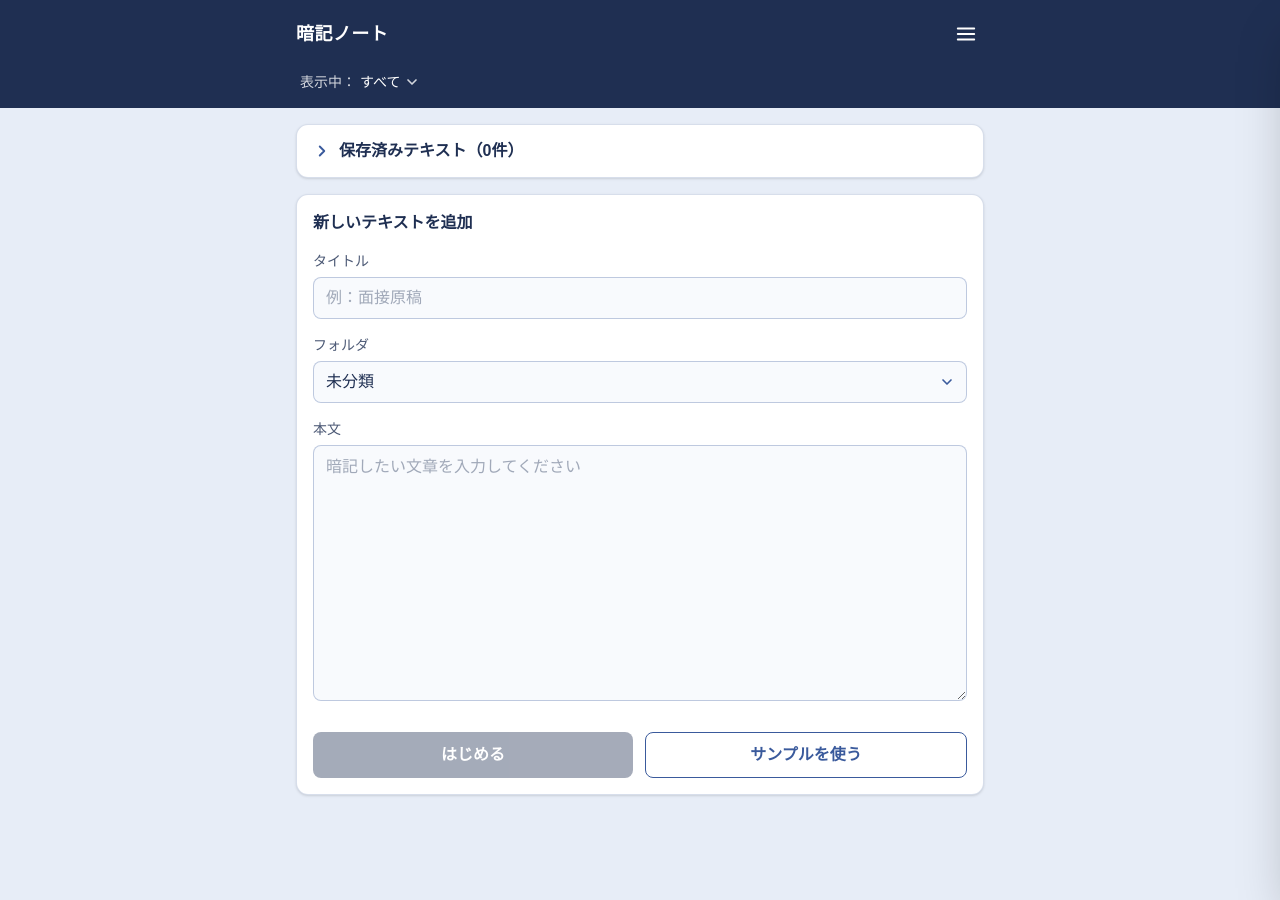
HomeScreen › フォルダ作成をキャンセルすると選択欄に戻る
Select "＋ 新しいフォルダを作る" in the dropdown labelled "フォルダ" at (640, 382), box x1=313 y1=361 x2=967 y2=403
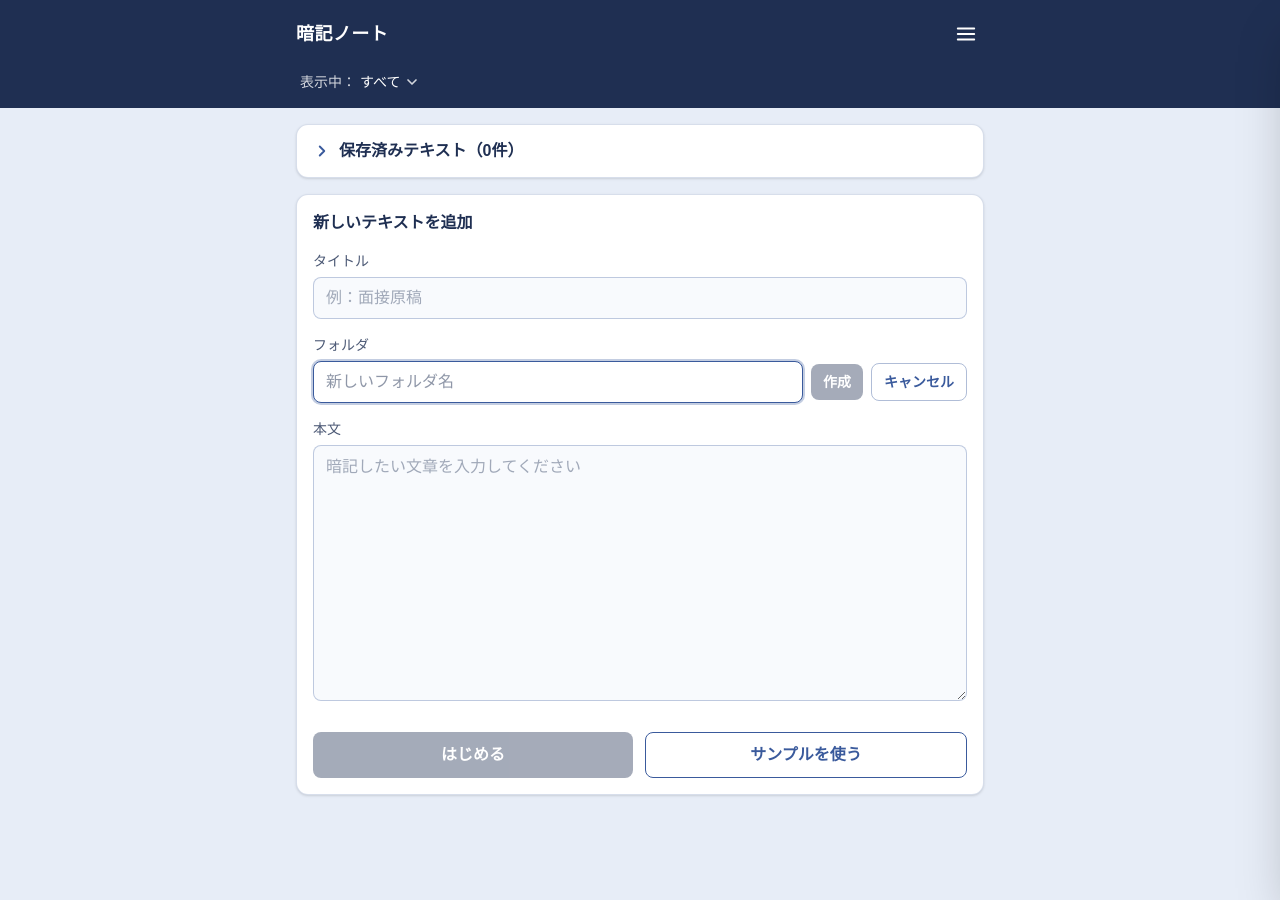
Click the button "キャンセル".
click(919, 382)  # box x1=871 y1=363 x2=967 y2=401
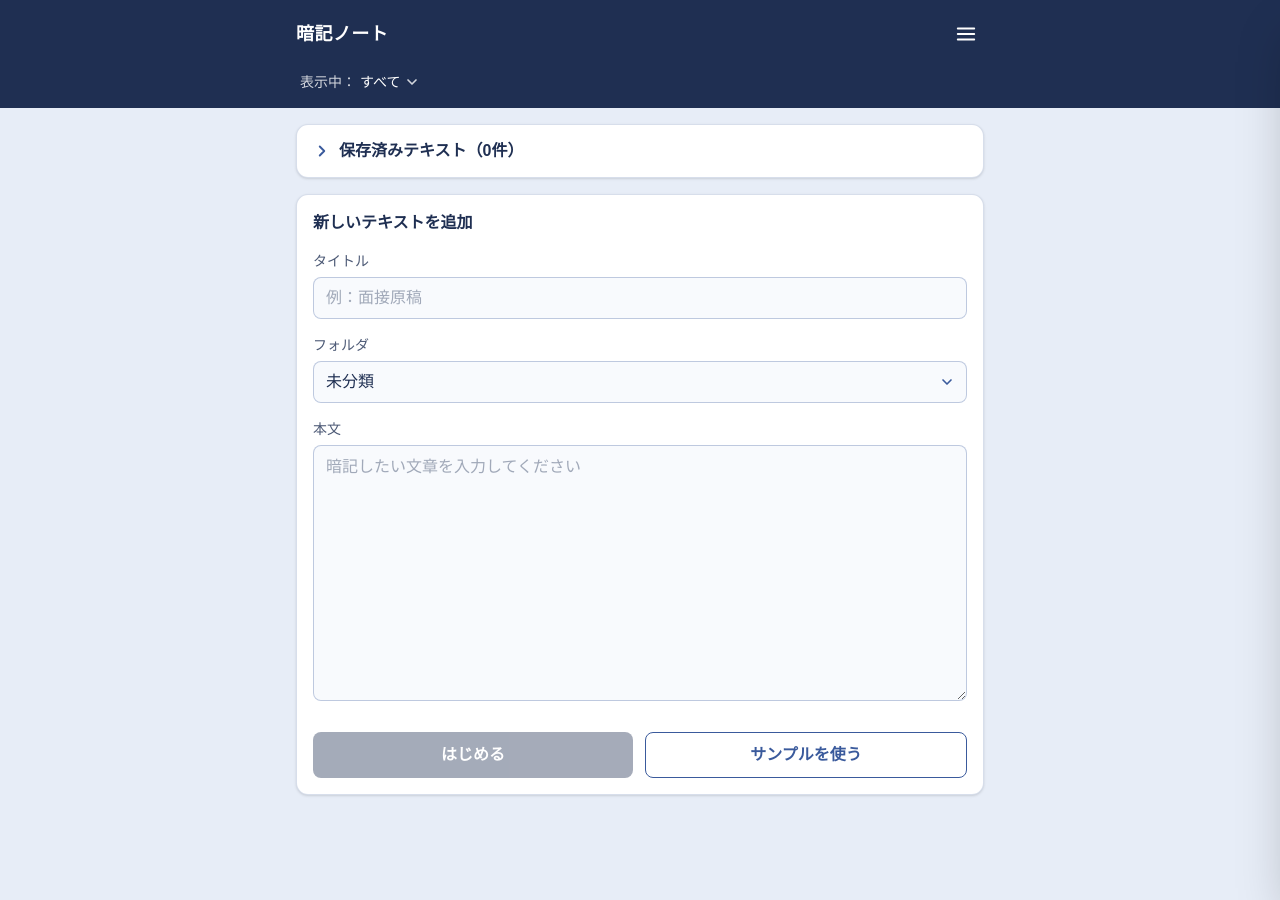
Expected: the dropdown labelled "フォルダ" is shown, x1=313 y1=361 x2=967 y2=403
